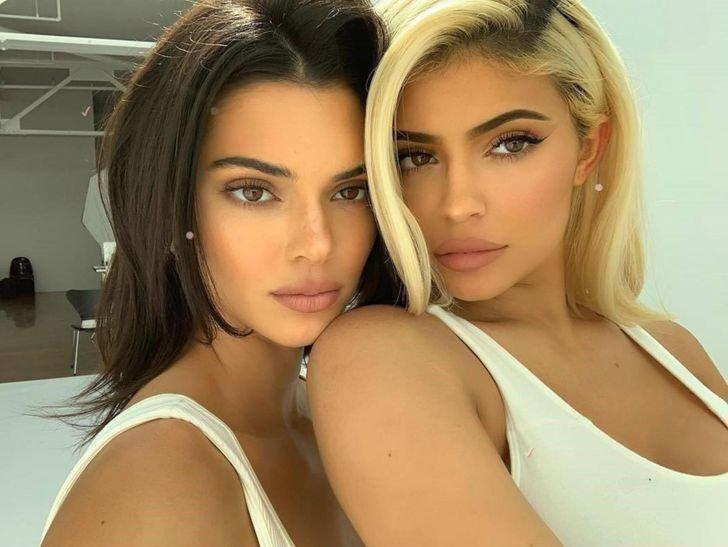Sober: (207, 90, 374, 327), (390, 78, 572, 293)
